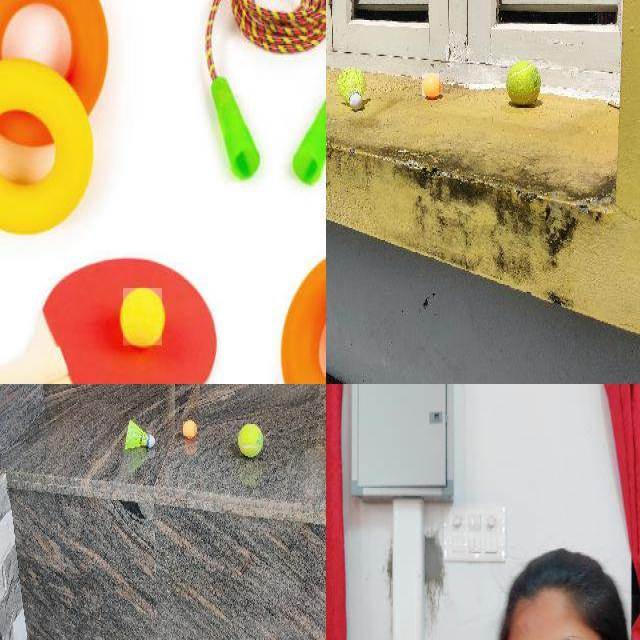ping-pong-ball: (122, 288, 164, 347), (422, 74, 440, 98), (183, 421, 195, 438)
